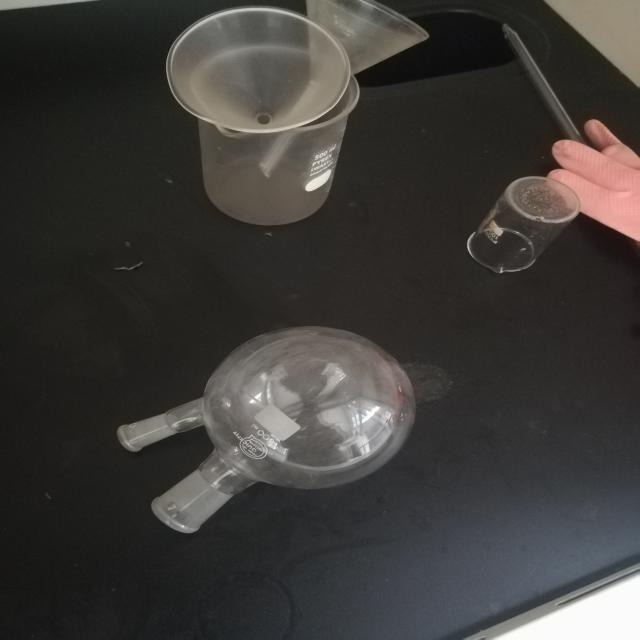Round_Bottom_Flask_Borosilicate_Glass_2_Neck: (54, 297, 516, 591)
